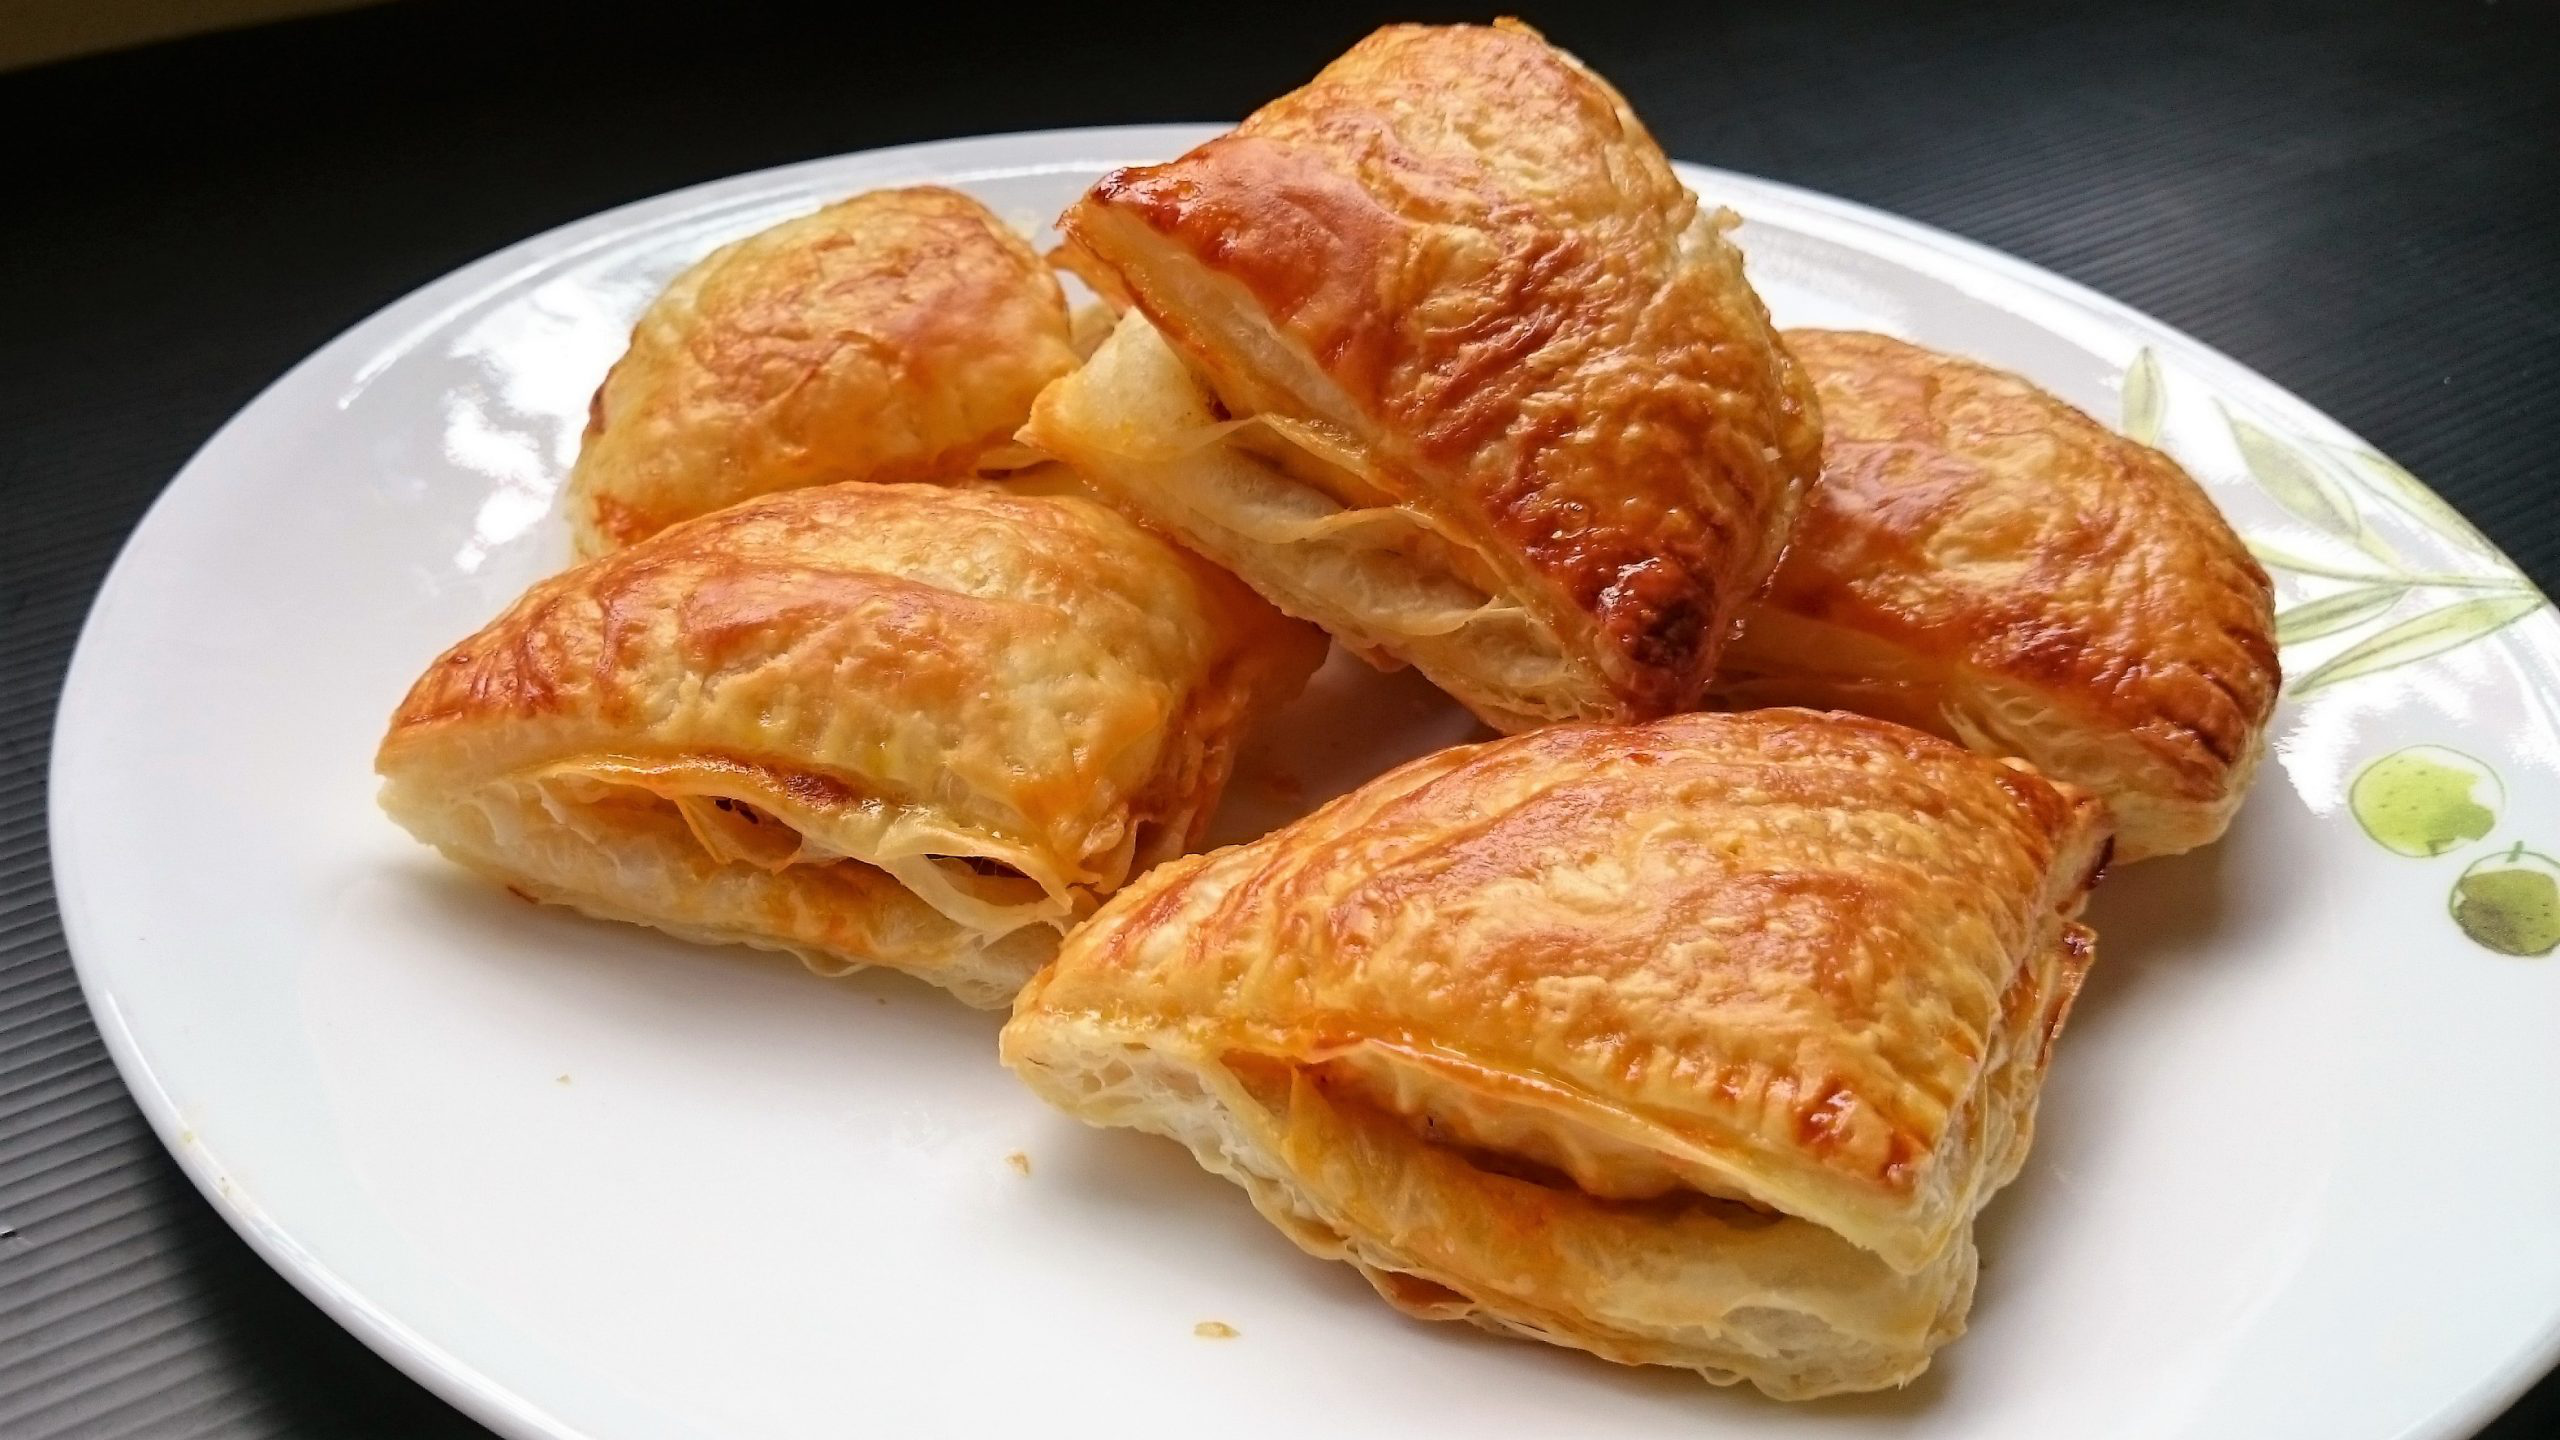Curry Puff: (1016, 716, 2117, 1412), (997, 84, 1837, 714), (348, 448, 1224, 986)
